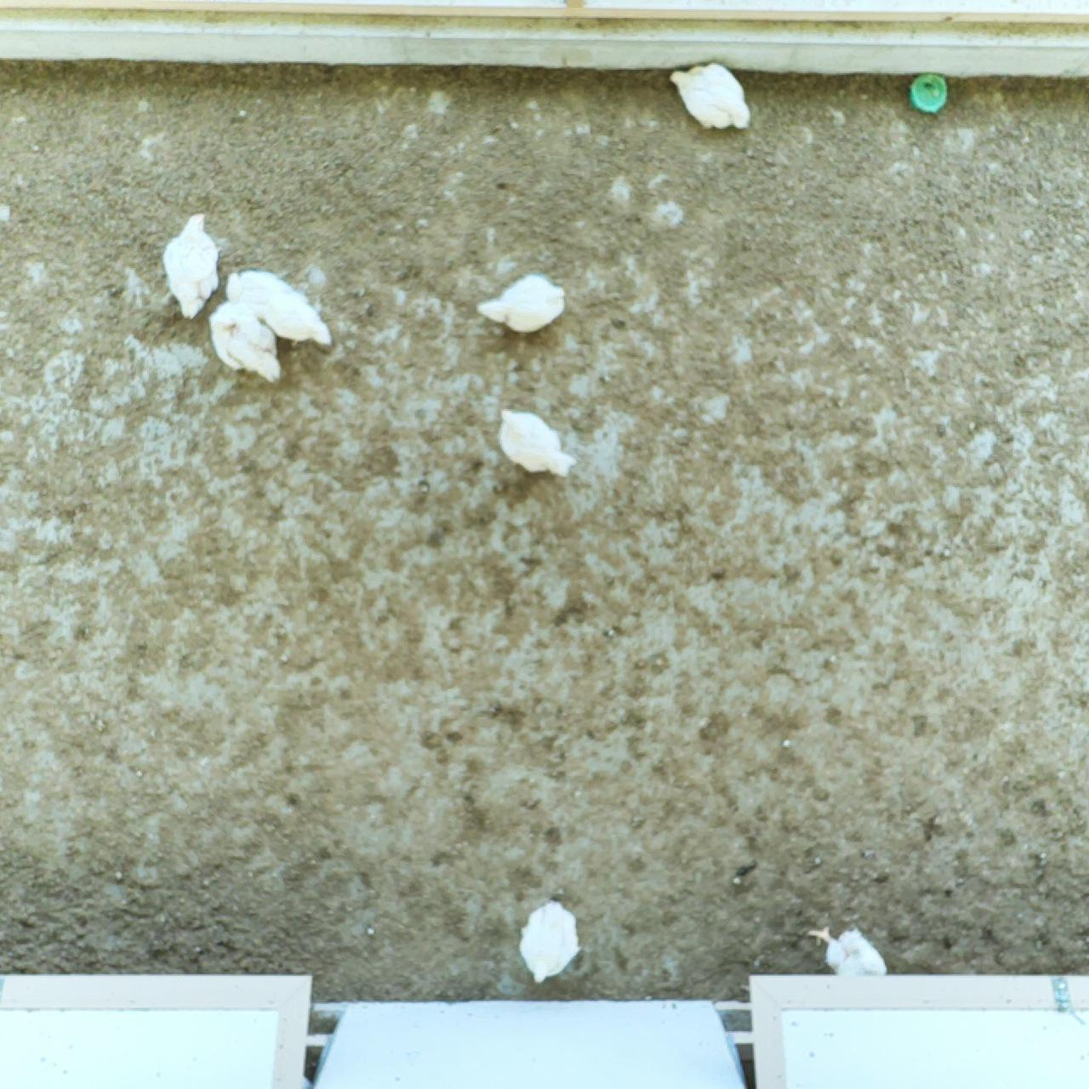chicken: (224, 262, 335, 350), (205, 298, 286, 389), (159, 212, 221, 322), (476, 272, 573, 341), (664, 60, 756, 132), (492, 405, 578, 479), (517, 898, 584, 988), (802, 924, 890, 978)
